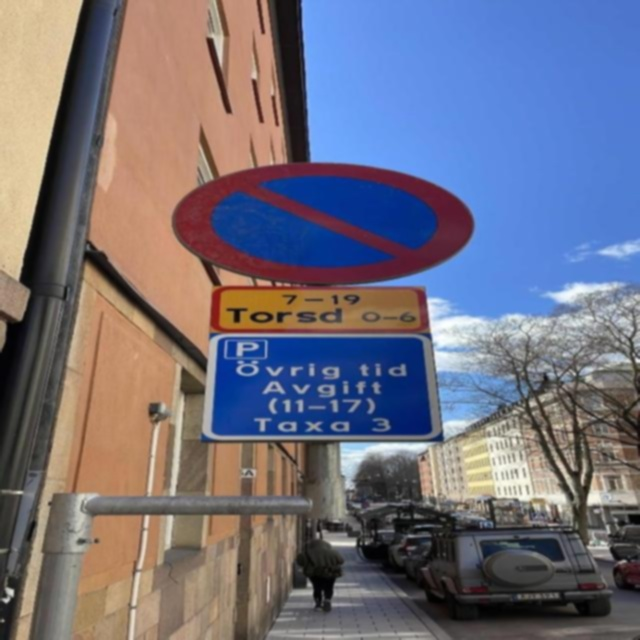lastplats: (172, 163, 474, 285)
